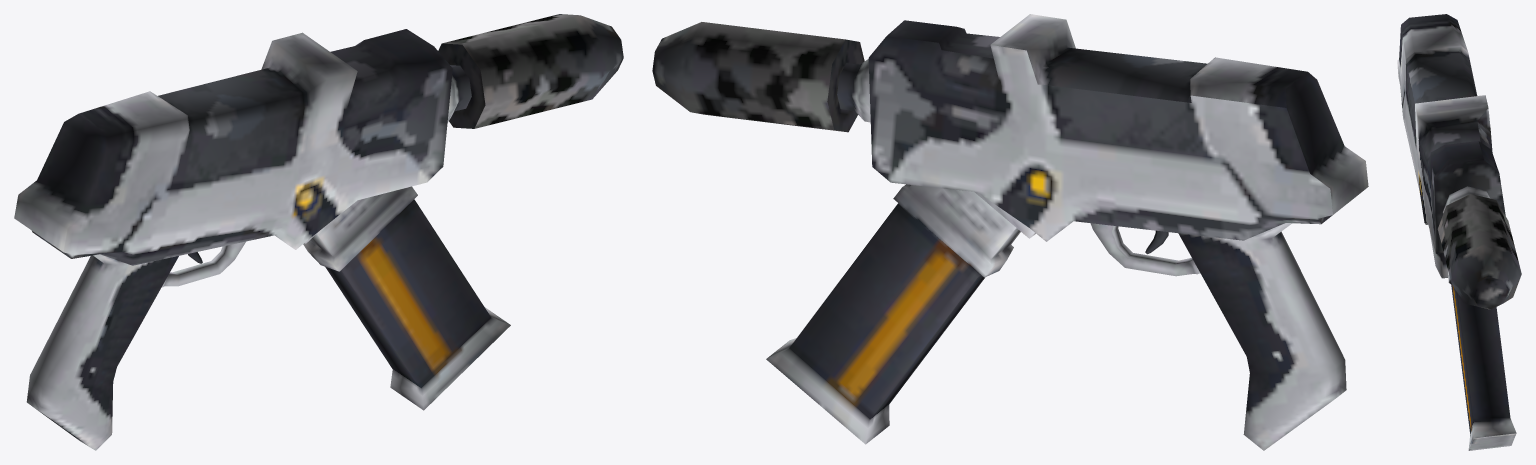
File: bishop_gun.glb
The picture shows the model from 3 angles, left to right: view 1: azimuth 30°, elevation 25°; view 2: azimuth 150°, elevation 25°; view 3: azimuth 270°, elevation 25°; orthographic projection. The views are drawn at different scales.
Parts seen in each view (by area): view 1: weapons/bishop_gun_0; view 2: weapons/bishop_gun_0; view 3: weapons/bishop_gun_0.
Part boxes in pixels (left/top/right/bottom): weapons/bishop_gun_0: left=14, top=14, right=623, bottom=450; weapons/bishop_gun_0: left=652, top=14, right=1368, bottom=450; weapons/bishop_gun_0: left=1397, top=14, right=1521, bottom=450.
Bounding box in the file's own units: 2 × 1.23 × 0.457.
Materials: 1 (1 with a texture image).
